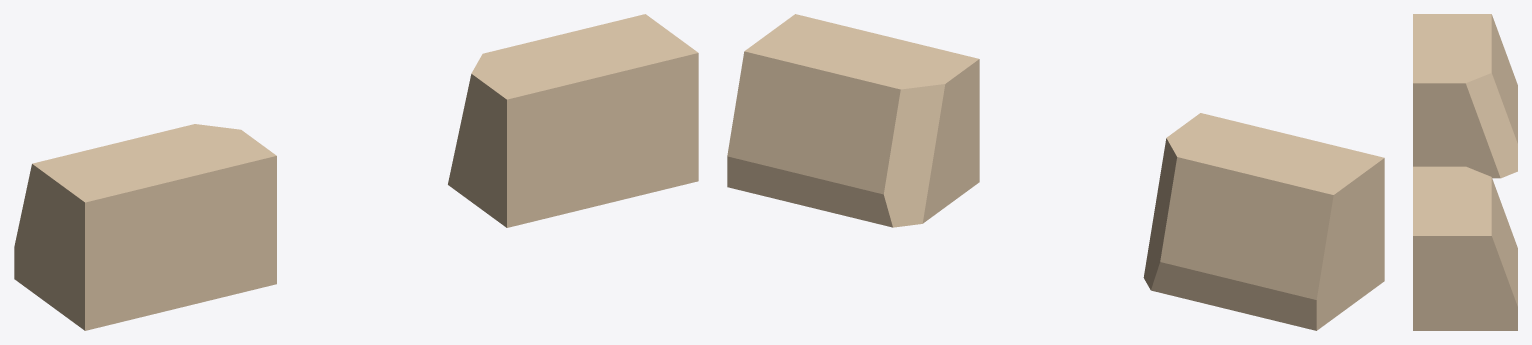
Rendered from Puzzle_Floor_Wall_Conduit_Connector_Base.glb.
The picture shows the model from 3 angles, left to right: view 1: azimuth 30°, elevation 25°; view 2: azimuth 150°, elevation 25°; view 3: azimuth 270°, elevation 25°; orthographic projection. The views are drawn at different scales.
Visible parts, largest first — view 1: Sandstone_5; view 2: Sandstone_5; view 3: Sandstone_5.
Boxes of the visible parts, box(x1,y1,x2,y2) form: Sandstone_5: box(14, 14, 698, 330); Sandstone_5: box(727, 14, 1384, 330); Sandstone_5: box(1413, 14, 1517, 330).
Bounding box in the file's own units: 1 × 0.2 × 0.2.
